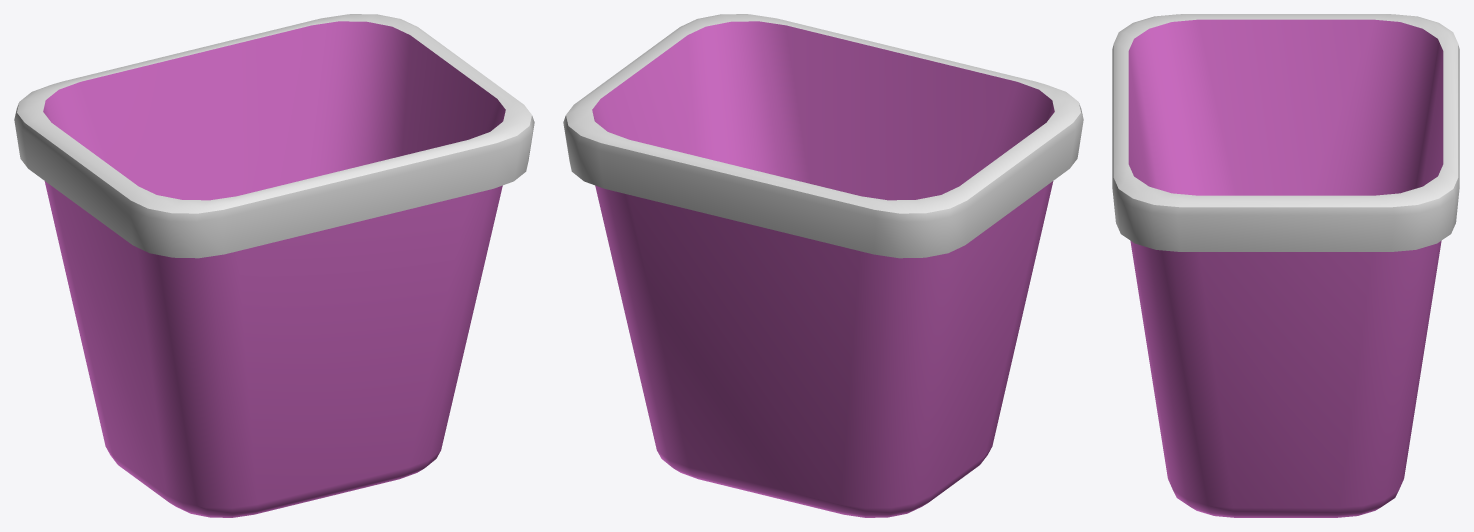
Rendered from LitterBin.fbx.
The picture shows the model from 3 angles, left to right: view 1: azimuth 30°, elevation 25°; view 2: azimuth 150°, elevation 25°; view 3: azimuth 270°, elevation 25°; orthographic projection.
Visible parts, largest first — view 1: Cube; view 2: Cube; view 3: Cube.
Part boxes in pixels (x1,y1,x2,y2): Cube: [14, 14, 534, 517]; Cube: [563, 14, 1083, 517]; Cube: [1112, 14, 1459, 517].
Bounding box in the file's own units: 26.44 × 22.31 × 19.96.
